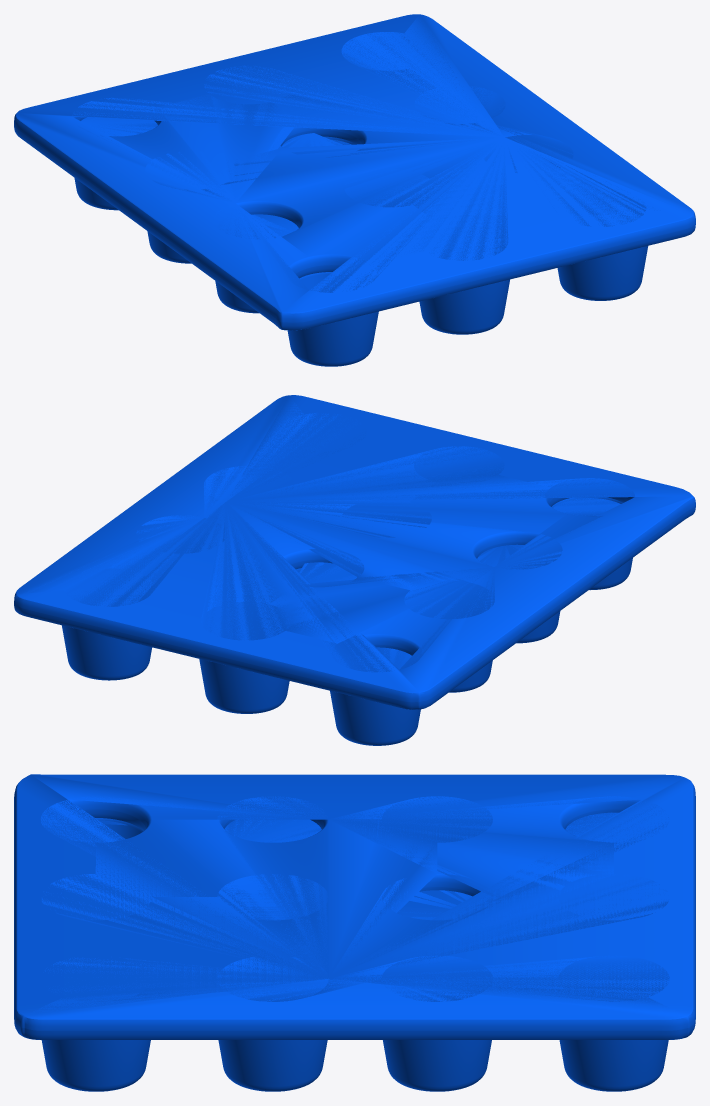
File: Cupcake Tray Sort - Tray 3x4.fbx
3 views of the same model, one above another, from view 1: azimuth 30°, elevation 25°; view 2: azimuth 150°, elevation 25°; view 3: azimuth 270°, elevation 25° (orthographic). The views are drawn at different scales.
Parts seen in each view (by area): view 1: tray 3x4; view 2: tray 3x4; view 3: tray 3x4.
Boxes of the visible parts, bbox=[...] form: tray 3x4: bbox=[14, 14, 695, 366]; tray 3x4: bbox=[14, 395, 695, 745]; tray 3x4: bbox=[14, 774, 695, 1091].
Bounding box in the file's own units: 0.7104 × 0.8286 × 0.126.
